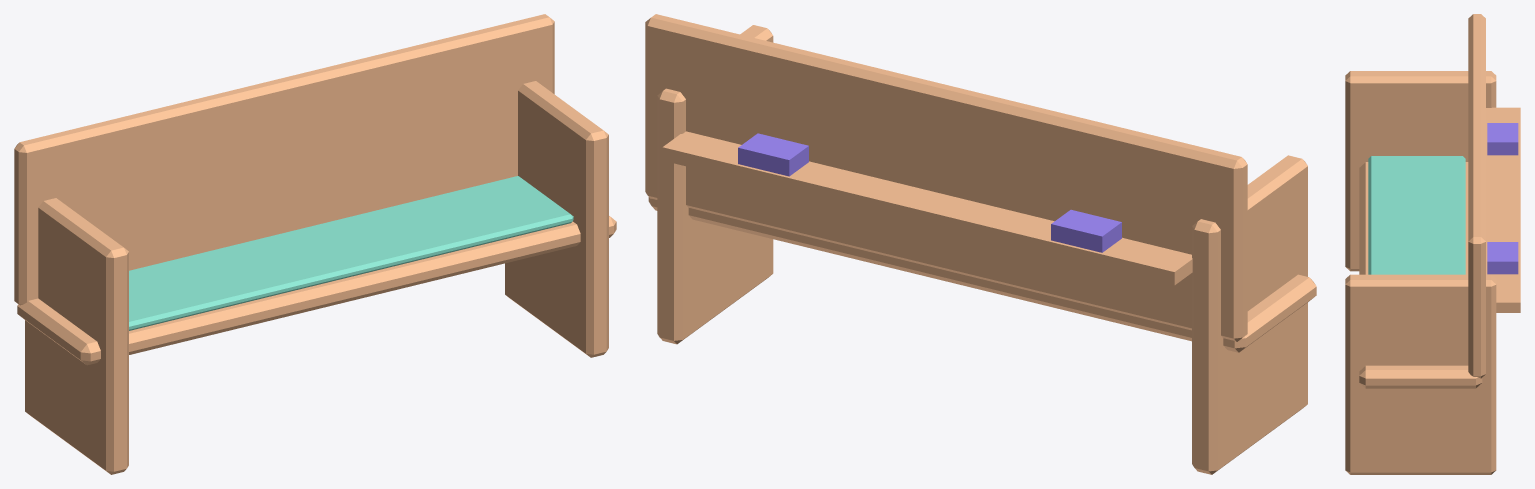
3 renders of one model, left to right at view 1: azimuth 30°, elevation 25°; view 2: azimuth 150°, elevation 25°; view 3: azimuth 270°, elevation 25°, orthographic. The views are drawn at different scales.
Parts seen in each view (by area): view 1: Back, Seat cushion, End panel, End panel.001, Seat; view 2: Back, End panel, Book rest, End panel.001, Seat, Hymnal cover.001, Hymnal cover; view 3: End panel.001, End panel, Seat cushion, Back, Book rest, Seat, Hymnal cover, Hymnal cover.001.
Part boxes in pixels (left/top/right/bottom): Back: left=14, top=14, right=554, bottom=305; Seat cushion: left=129, top=176, right=573, bottom=330; End panel: left=25, top=198, right=128, bottom=474; End panel.001: left=505, top=81, right=608, bottom=357; Seat: left=17, top=216, right=616, bottom=365; Back: left=645, top=14, right=1247, bottom=341; End panel: left=1192, top=155, right=1307, bottom=474; Book rest: left=662, top=131, right=1192, bottom=285; End panel.001: left=657, top=25, right=773, bottom=344; Seat: left=648, top=197, right=1316, bottom=352; Hymnal cover.001: left=738, top=133, right=808, bottom=176; Hymnal cover: left=1051, top=209, right=1121, bottom=252; End panel.001: left=1345, top=274, right=1496, bottom=474; End panel: left=1345, top=71, right=1496, bottom=271; Seat cushion: left=1368, top=156, right=1465, bottom=274; Back: left=1468, top=14, right=1485, bottom=378; Book rest: left=1486, top=107, right=1520, bottom=312; Seat: left=1359, top=162, right=1482, bottom=388; Hymnal cover: left=1487, top=123, right=1518, bottom=155; Hymnal cover.001: left=1487, top=242, right=1518, bottom=274.
Size of the model in its own units: 2.1 by 1.06 by 0.685.
Materials: 1 (1 with a texture image).
